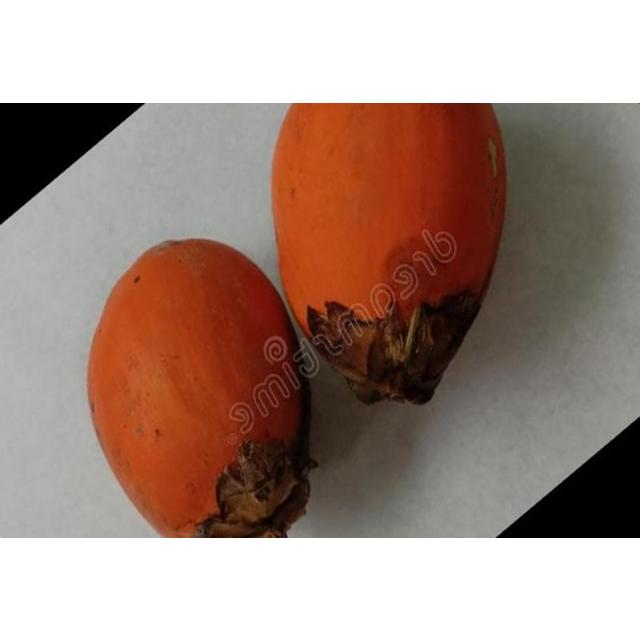good: (270, 102, 508, 406), (86, 237, 317, 536)
